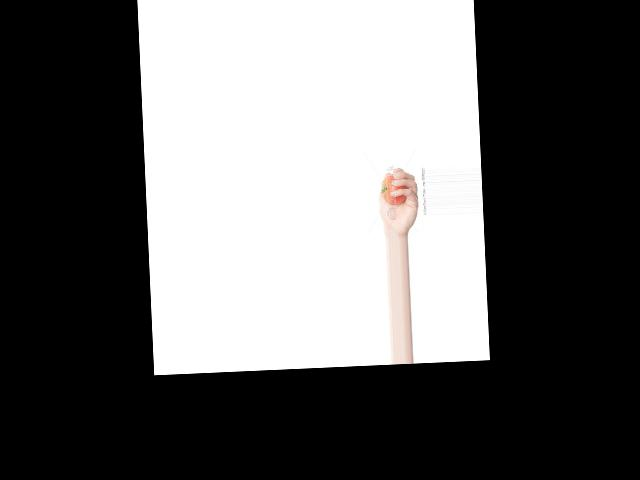tomato: (381, 173, 408, 203)
